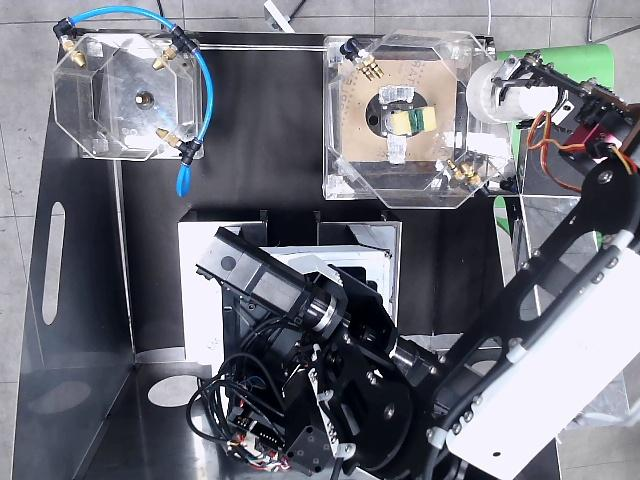cup: (466, 56, 558, 123)
